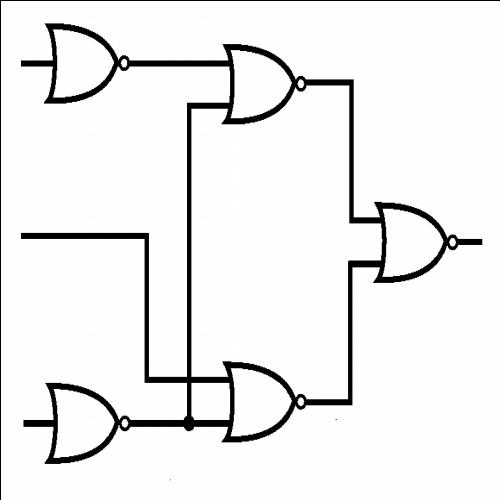nor: (367, 196, 463, 290), (38, 377, 134, 469), (216, 40, 312, 132), (39, 16, 132, 110), (216, 356, 310, 448)
